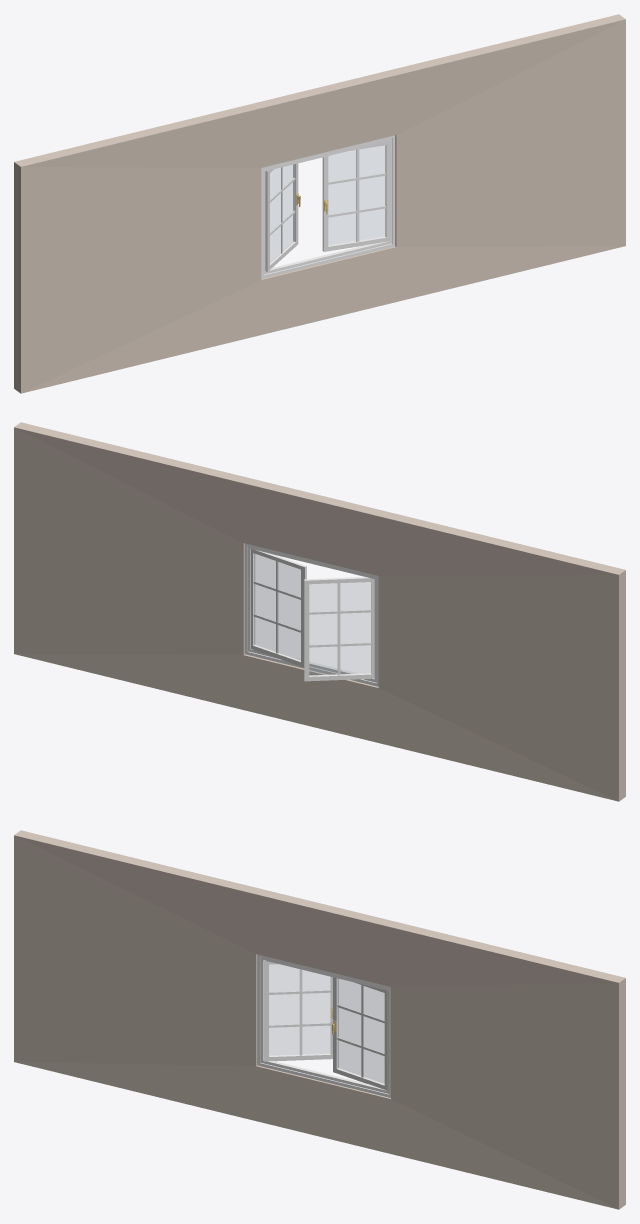
File: wall_with_window.glb
3 renders of one model, top to bottom at view 1: azimuth 30°, elevation 25°; view 2: azimuth 150°, elevation 25°; view 3: azimuth 330°, elevation 25°, orthographic.
Visible parts, largest first — view 1: Wall, Glass (×2), BigPane (×2), WindowSillB, WindowSillA, SmallPane; view 2: Wall, Glass (×2), BigPane (×2), WindowSillA, WindowSillB, SmallPane (×2); view 3: Wall, Glass (×2), BigPane (×2), WindowSillB, WindowSillA, SmallPane (×2).
Part boxes in pixels (x1,y1,x2,y2): Wall: [14, 14, 625, 393]; Glass (×2): [270, 145, 385, 262]; BigPane (×2): [265, 141, 390, 271]; WindowSillB: [263, 138, 391, 274]; WindowSillA: [261, 135, 395, 278]; SmallPane: [328, 149, 385, 241]; Wall: [14, 422, 625, 801]; Glass (×2): [254, 554, 370, 675]; BigPane (×2): [251, 549, 374, 681]; WindowSillA: [245, 543, 378, 686]; WindowSillB: [248, 546, 376, 682]; SmallPane (×2): [253, 561, 371, 675]; Wall: [14, 830, 625, 1209]; Glass (×2): [269, 964, 384, 1083]; BigPane (×2): [264, 960, 388, 1090]; WindowSillB: [260, 957, 389, 1093]; WindowSillA: [257, 954, 390, 1097]; SmallPane (×2): [269, 969, 384, 1077].
Size of the model in its own units: 7.73 by 2.77 by 0.5228.
8 materials, 8 textured.
